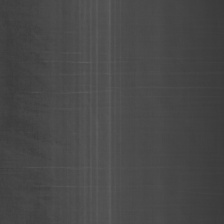waist_folding: (54, 9, 123, 216)
